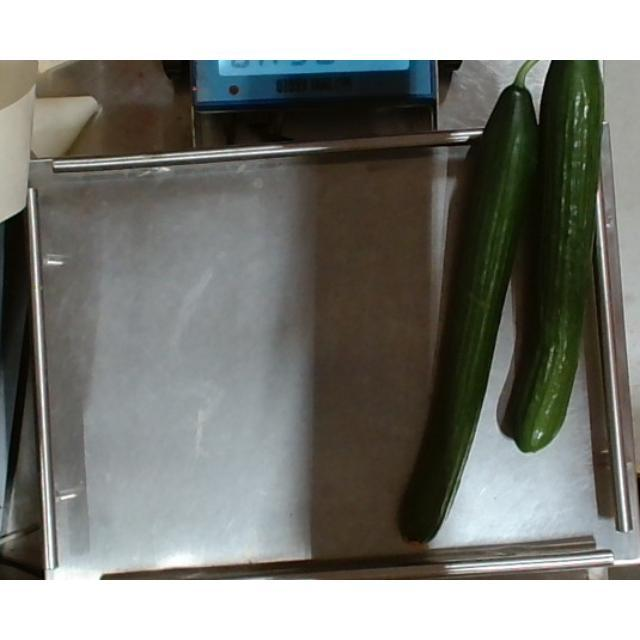cucumber: (398, 60, 538, 548), (502, 60, 606, 452)
